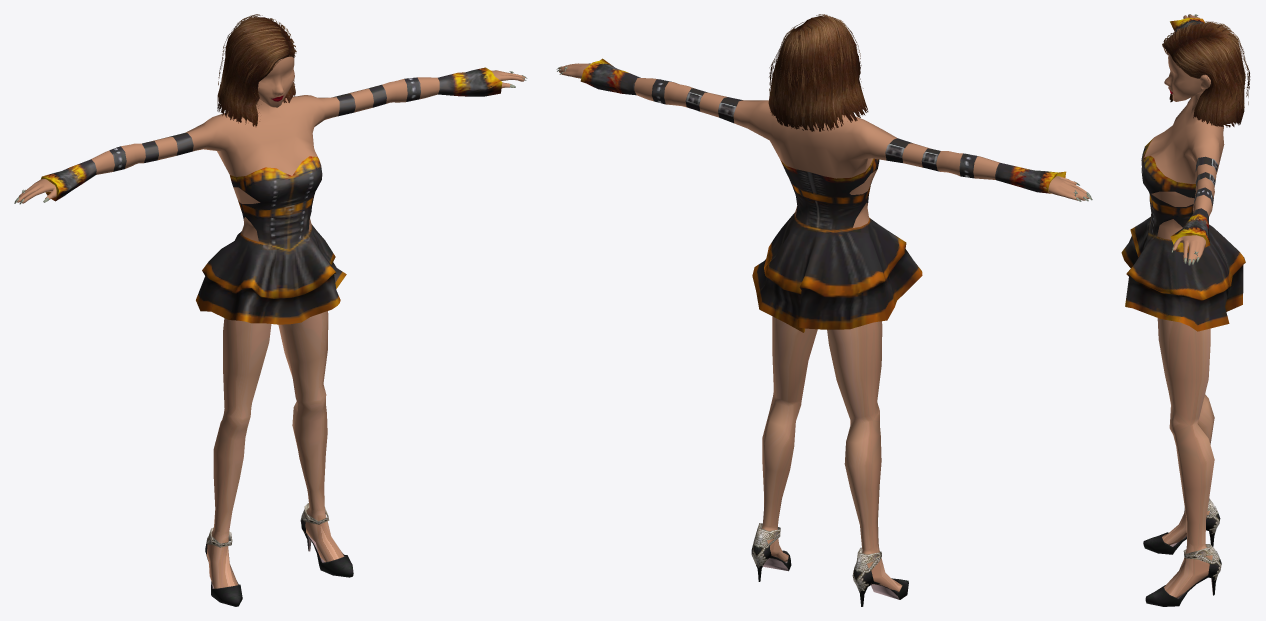
Rendered from girl_001.glb.
The picture shows the model from 3 angles, left to right: view 1: azimuth 30°, elevation 25°; view 2: azimuth 150°, elevation 25°; view 3: azimuth 270°, elevation 25°; orthographic projection. The views are drawn at different scales.
Visible parts, largest first — view 1: badan, mesh_23_22.nr.001, rambut, mesh_23_22.nr, sepatu.001, kepala, badan.001; view 2: badan, mesh_23_22.nr.001, rambut, mesh_23_22.nr, sepatu.001, badan.001; view 3: badan, mesh_23_22.nr.001, rambut, sepatu.001, mesh_23_22.nr, kepala, badan.001.
Part boxes in pixels (<box>): badan: <box>91,77,439,588</box>; mesh_23_22.nr.001: <box>196,156,346,324</box>; rambut: <box>217,14,296,126</box>; mesh_23_22.nr: <box>41,67,502,201</box>; sepatu.001: <box>205,503,353,606</box>; kepala: <box>258,56,294,107</box>; badan.001: <box>14,70,527,204</box>; badan: <box>634,78,1000,591</box>; mesh_23_22.nr.001: <box>752,158,922,332</box>; rambut: <box>768,14,868,131</box>; mesh_23_22.nr: <box>580,58,1066,193</box>; sepatu.001: <box>751,523,908,606</box>; badan.001: <box>556,63,1092,201</box>; badan: <box>1144,92,1224,598</box>; mesh_23_22.nr.001: <box>1121,138,1245,331</box>; rambut: <box>1162,21,1250,127</box>; sepatu.001: <box>1143,498,1221,606</box>; mesh_23_22.nr: <box>1170,17,1218,252</box>; kepala: <box>1164,53,1210,101</box>; badan.001: <box>1171,14,1205,265</box>.
Size of the model in its own units: 1.57 by 1.61 by 0.3447.
Materials: 8 (7 with a texture image).
